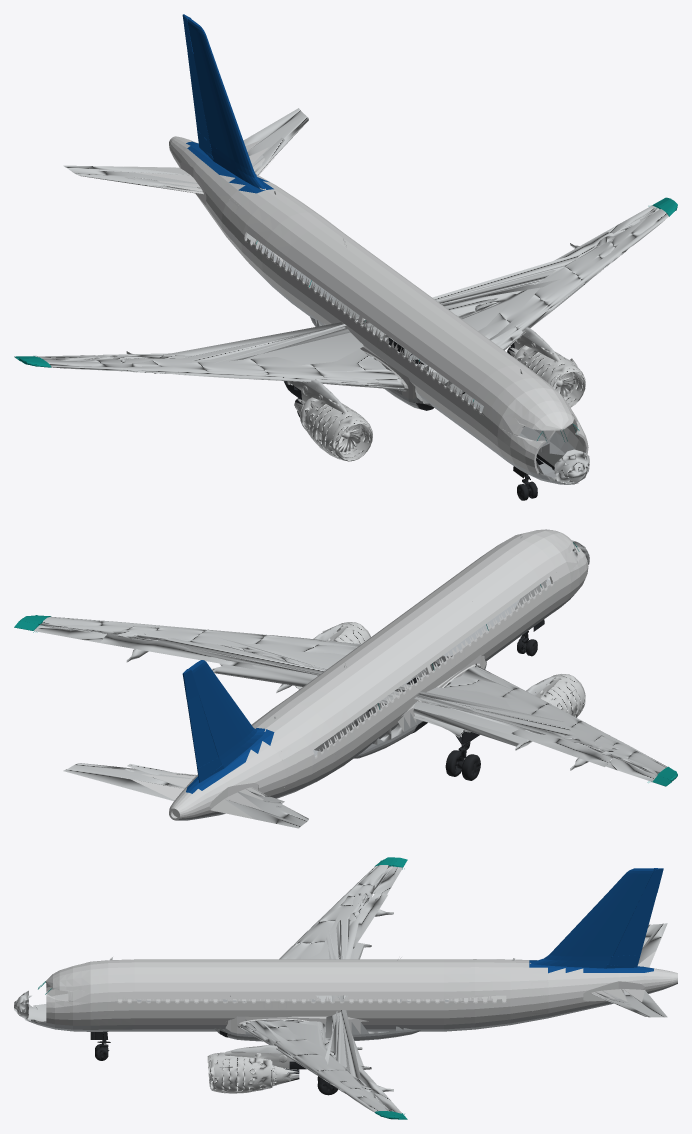
The model's file is pesawat_luar.glb.
3 views of the same model, one above another, from view 1: azimuth 30°, elevation 25°; view 2: azimuth 150°, elevation 25°; view 3: azimuth 270°, elevation 25° (orthographic). The views are drawn at different scales.
Parts seen in each view (by area): view 1: Luar; view 2: Luar; view 3: Luar.
Boxes of the visible parts, x1,y1,x2,y2 form: Luar: (14,14,677,500); Luar: (14,529,677,828); Luar: (14,857,677,1119).
Bounding box in the file's own units: 34.79 × 12.03 × 37.55.
